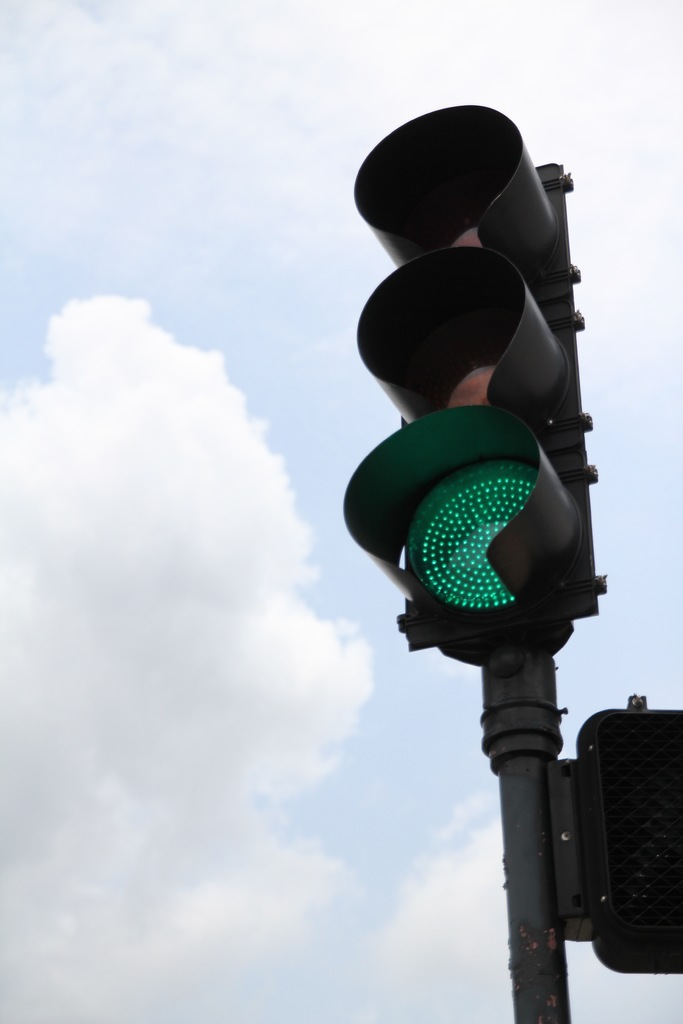green_light: (364, 446, 564, 629)
